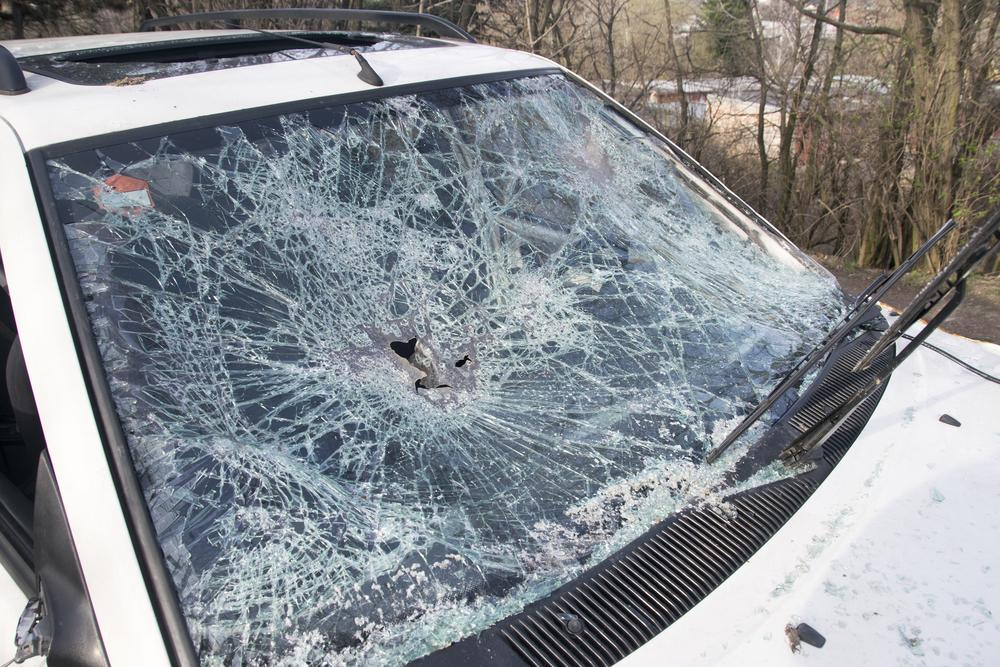glass shatter: (47, 71, 862, 667)
